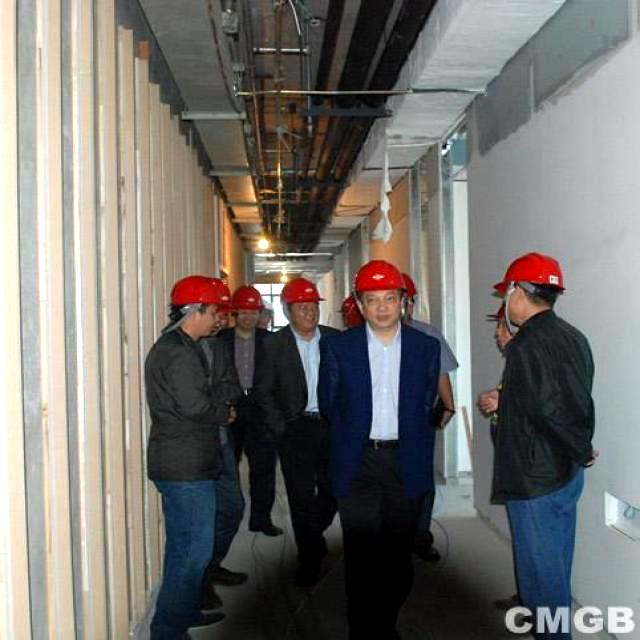hard_hat: (494, 252, 563, 291), (355, 260, 404, 301), (171, 276, 219, 306), (280, 278, 321, 303), (235, 286, 263, 310)
person: (320, 260, 440, 639), (493, 254, 594, 639), (146, 276, 226, 639), (263, 278, 339, 586), (219, 286, 283, 535)
